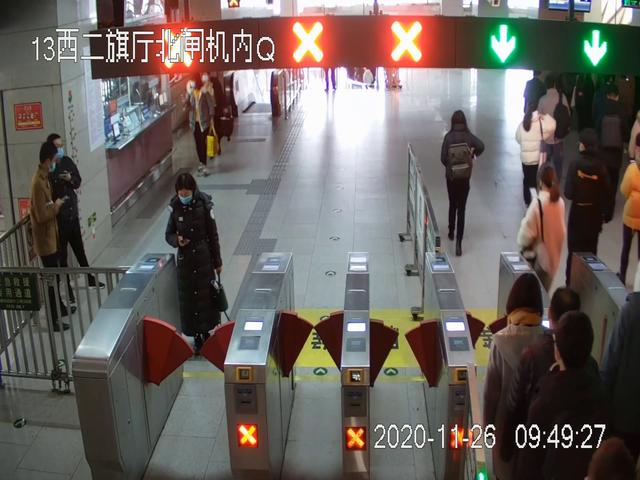person: (486, 275, 559, 480), (538, 313, 615, 480), (167, 173, 228, 353), (45, 132, 102, 288), (32, 141, 77, 331), (567, 130, 616, 291), (518, 163, 567, 300), (441, 109, 484, 256), (515, 95, 556, 209), (182, 75, 219, 177)
